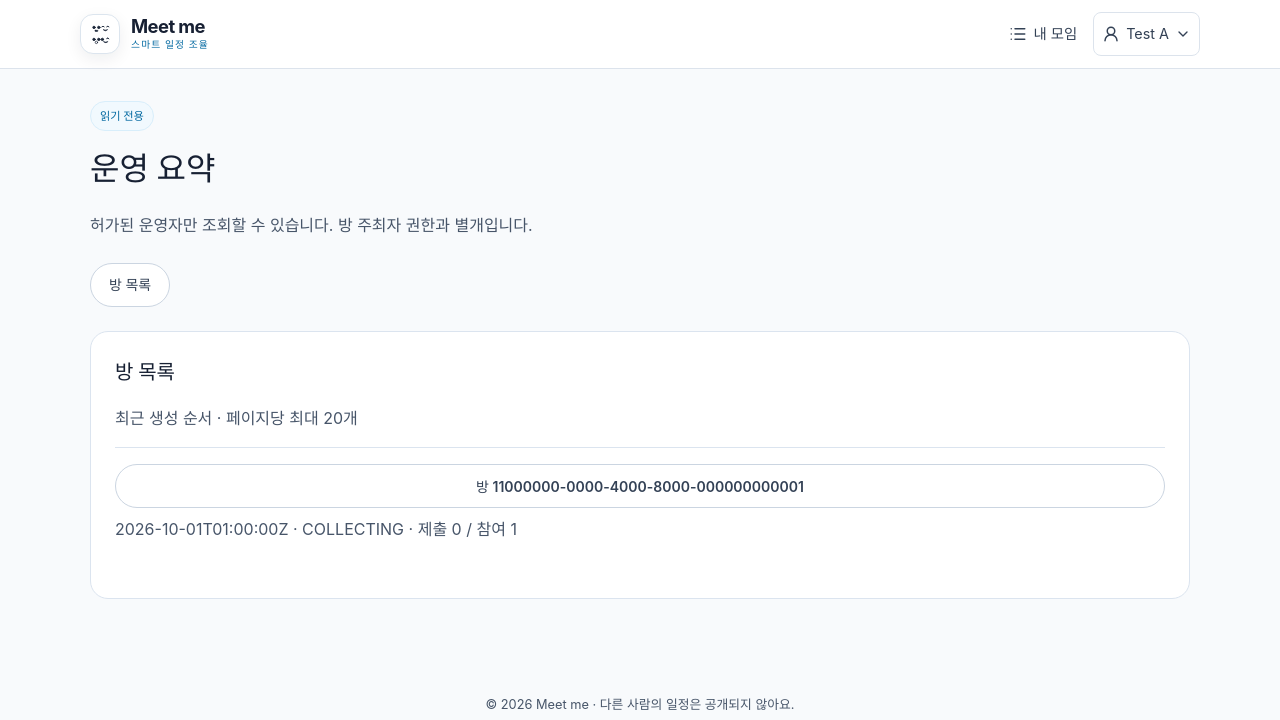
it: #110 route binding to the actual #109 memory session › shows authentication required for a known expired account before the next operations fetch
The image size is (1280, 720).
Expected: the button "방 11000000-0000-4000-8000-000000000001" is shown, [115,464,1165,508]
Click the button "방 목록".
click(130, 285)  # box [90,263,170,307]
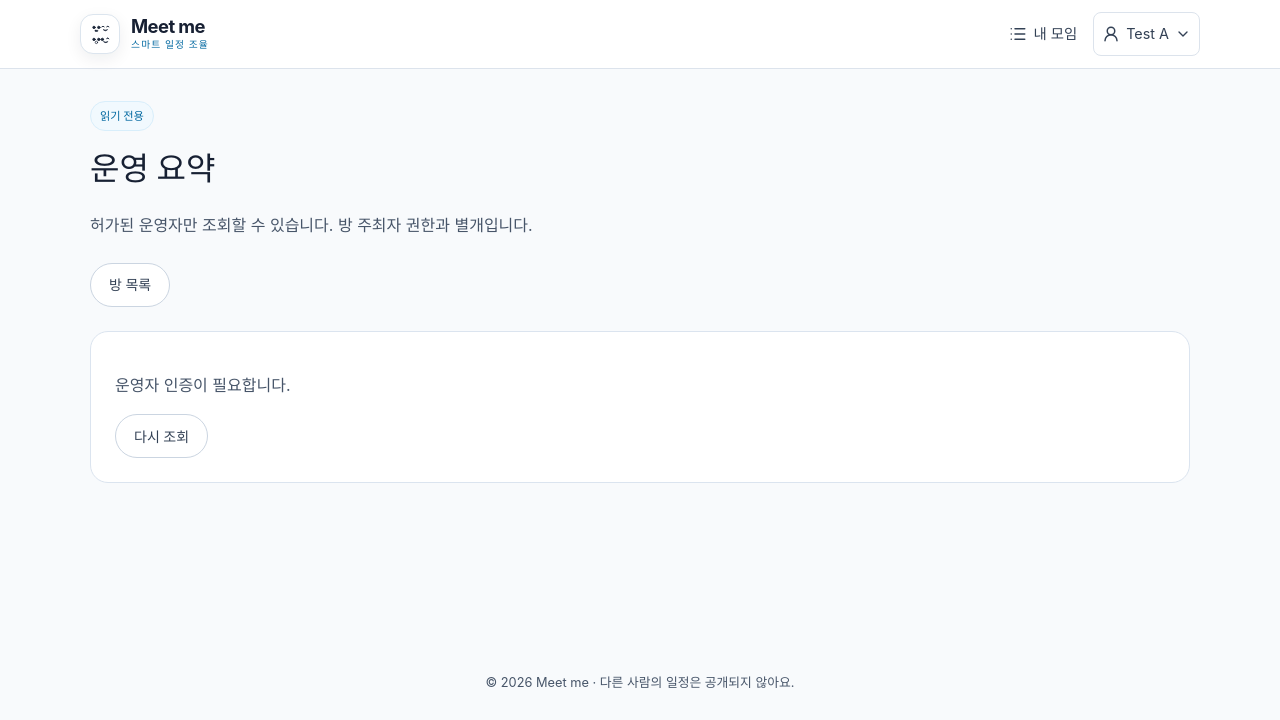
Expected: the text "운영자 인증이 필요합니다." is shown, [115,375,290,395]
